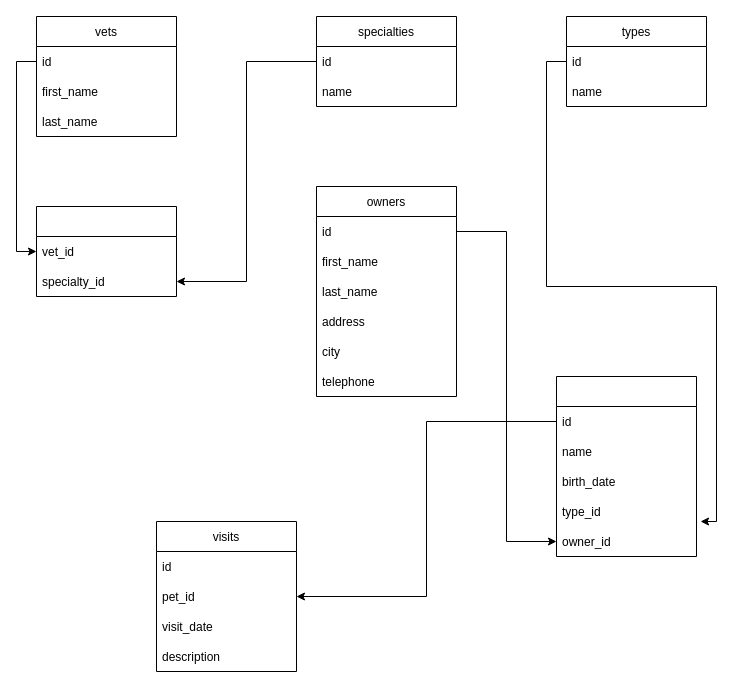
This 733x688 diagram has some shape labels left out. The shapes that lost their labels are listed below. From the top down, each one's box as (x1, y1, x2, y2) in pixels, then its label:
(36, 206, 176, 296): vet_specialties
(556, 376, 696, 556): pets
